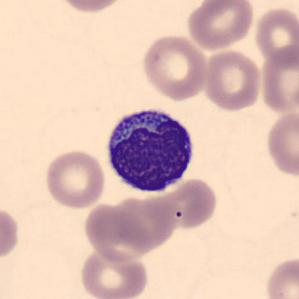Lymphocyte: (102, 101, 198, 197)
RBC: (139, 33, 210, 102), (43, 147, 108, 210), (83, 202, 150, 262), (202, 48, 263, 112), (78, 247, 150, 299), (184, 0, 256, 52), (156, 176, 220, 231), (257, 44, 299, 116), (252, 5, 298, 67), (264, 108, 298, 178), (262, 254, 298, 299), (0, 203, 20, 264), (50, 0, 128, 15)
